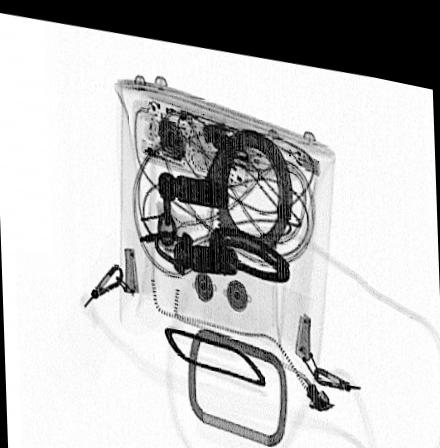HandCuffs: (155, 116, 293, 271)
